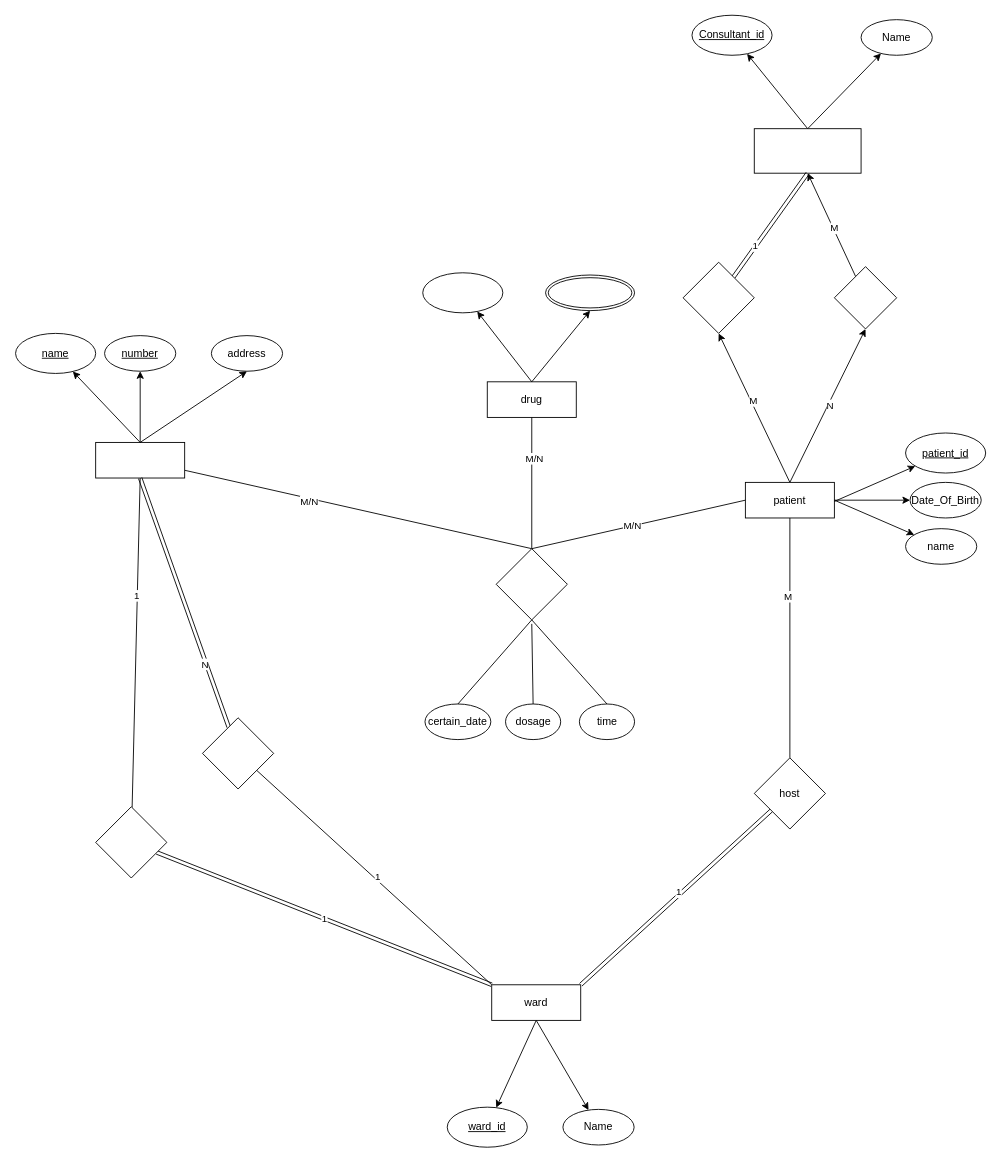
The diagram is 1001 pixels wide and 1163 high, and some of its shapes have lost their labels. Each missing label, with the centre of its shape:
"assign" goes at (x=718, y=297).
"brand_name" goes at (x=590, y=292).
"code_number" goes at (x=462, y=292).
"consultant" goes at (x=807, y=150).
"examine" goes at (x=865, y=297).
"Give" goes at (x=531, y=584).
"Nurse" goes at (x=140, y=460).
"serve" goes at (x=238, y=753).
"supervise" goes at (x=131, y=842).
